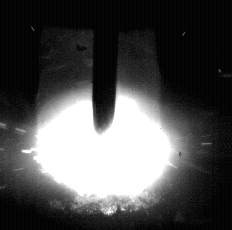arame: (93, 0, 118, 133)
poca: (35, 0, 171, 230)
